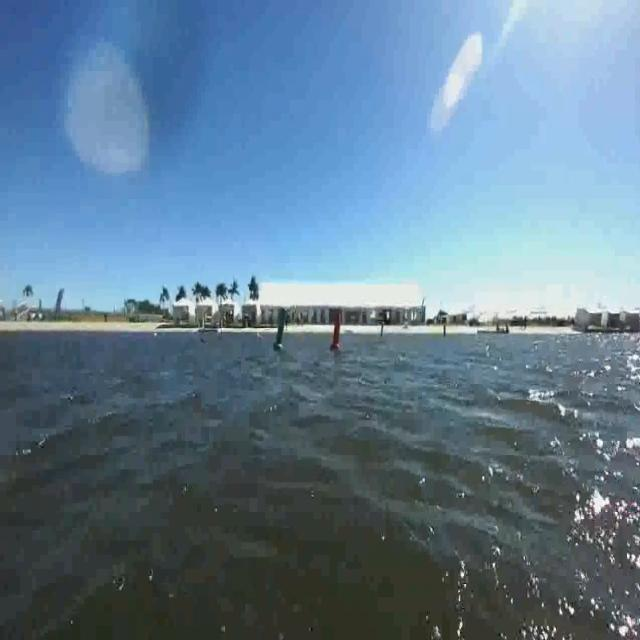green-column-buoy: (269, 297, 294, 357)
red-column-buoy: (326, 298, 350, 361)
